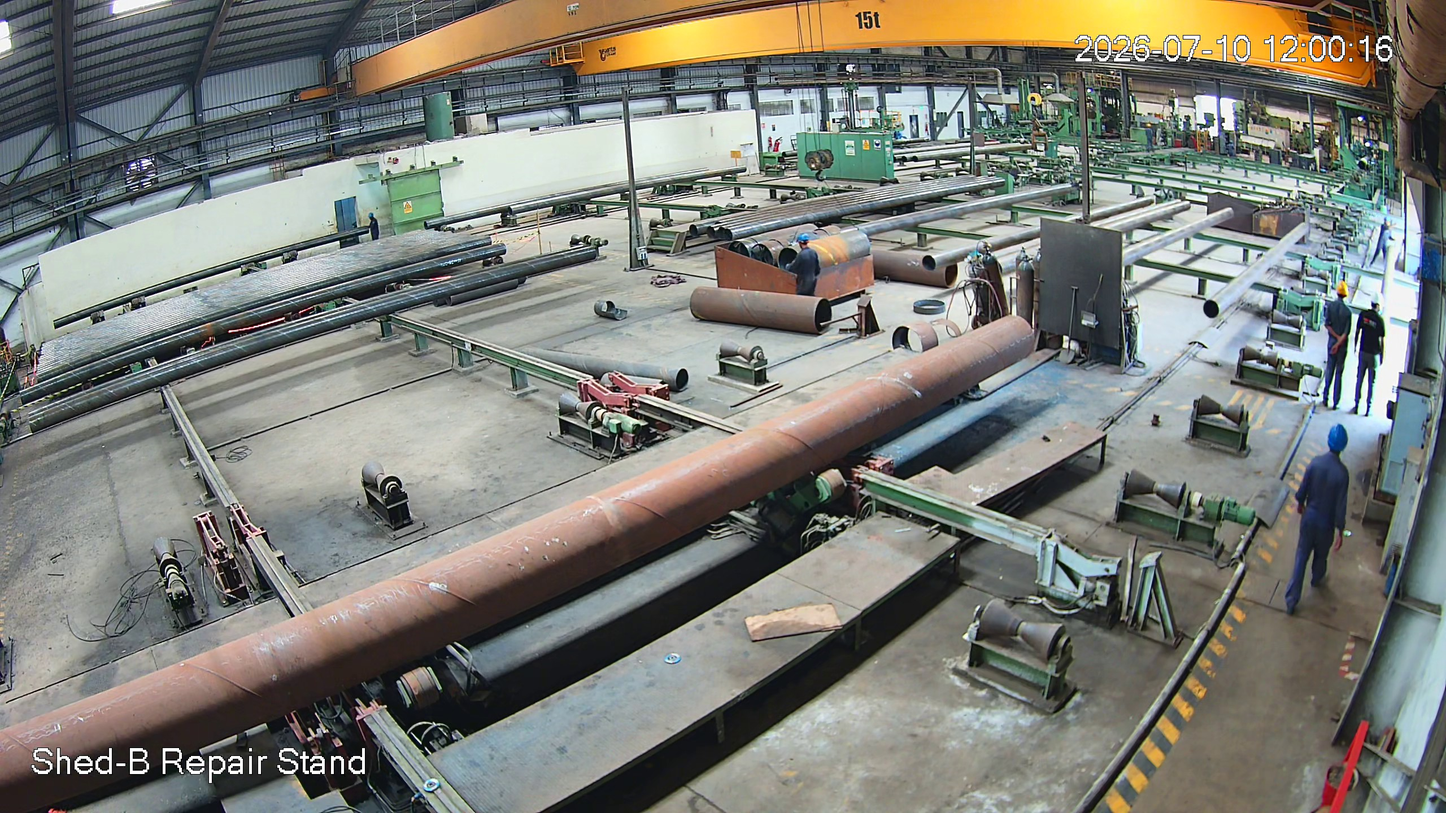Helmet: (1317, 419, 1358, 472), (1329, 275, 1353, 306), (795, 231, 816, 252)
Person: (1283, 423, 1365, 631), (1313, 280, 1357, 411), (1351, 291, 1389, 423), (790, 234, 820, 299)
